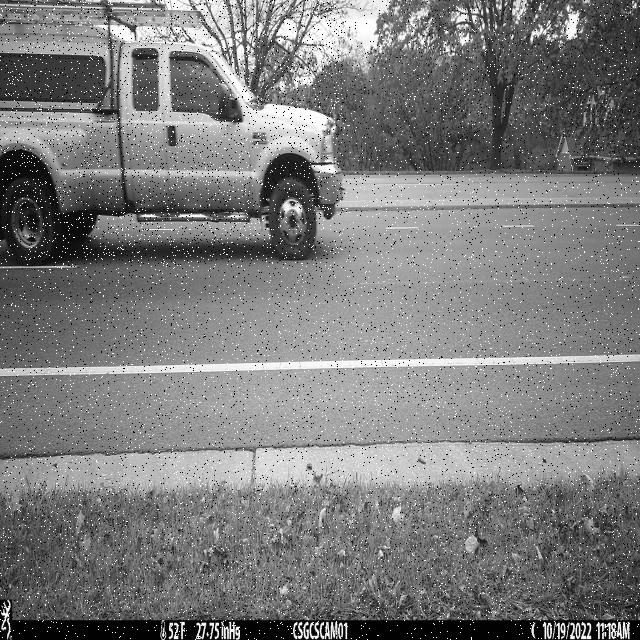Pickup- Utility: (0, 0, 344, 266)
